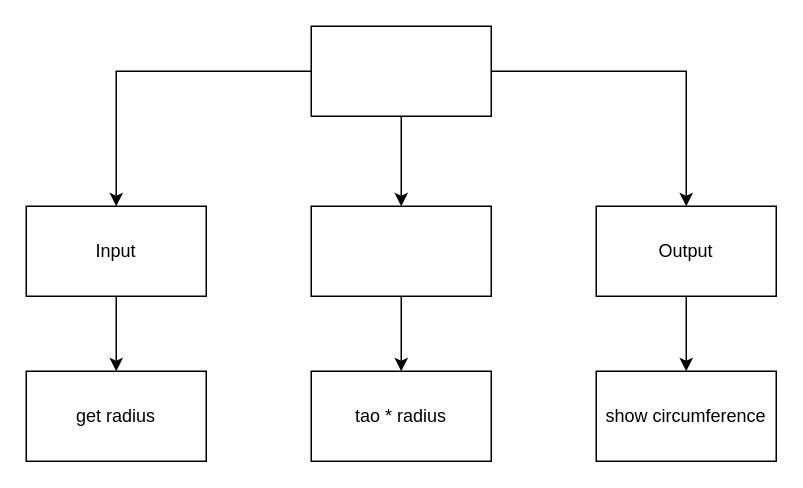
Image size: 803x488. Some labels were removed from this diagram. Here are the shapes that lost their labels. From the top down, the centre of each, then its label:
(400,70): Circumference of a circle
(400,250): Process
